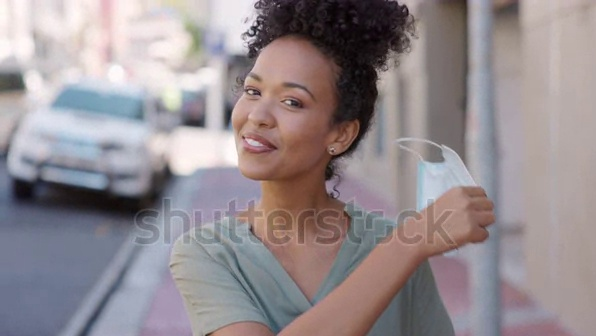No Mask: (213, 116, 322, 189)
